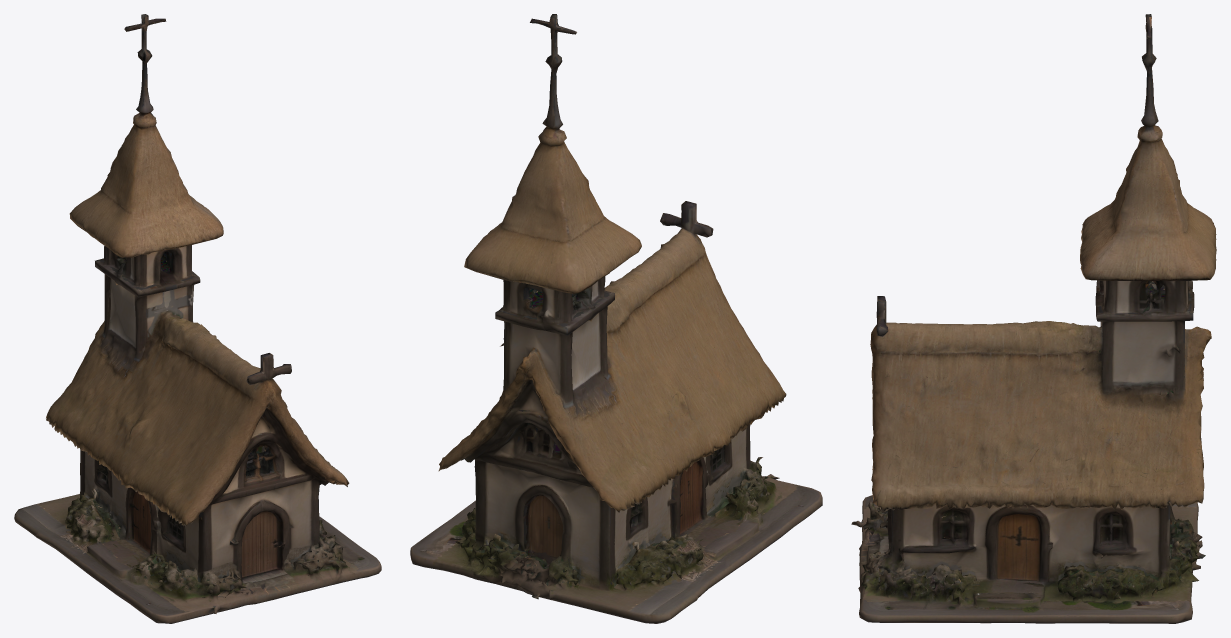
The model's file is Meshy_AI_kleine_Dorfkirche_1016102635_texture.fbx.
The picture shows the model from 3 angles, left to right: view 1: azimuth 30°, elevation 25°; view 2: azimuth 150°, elevation 25°; view 3: azimuth 270°, elevation 25°; orthographic projection. The views are drawn at different scales.
Parts seen in each view (by area): view 1: Mesh_0; view 2: Mesh_0; view 3: Mesh_0.
Part boxes in pixels (box(x1,y1,x2,y2)): Mesh_0: box(14, 14, 381, 623); Mesh_0: box(410, 14, 822, 623); Mesh_0: box(851, 14, 1216, 623).
Bounding box in the file's own units: 98.16 × 199 × 120.
Materials: 1 (1 with a texture image).
